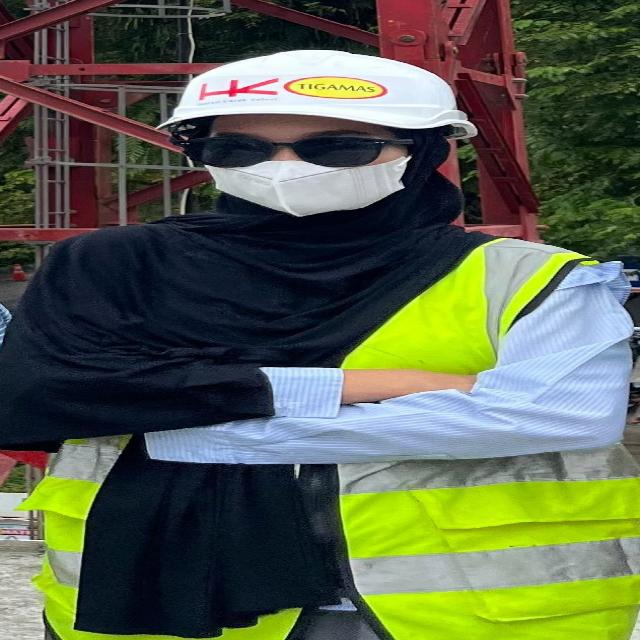safetyhelmet: (140, 41, 489, 198)
